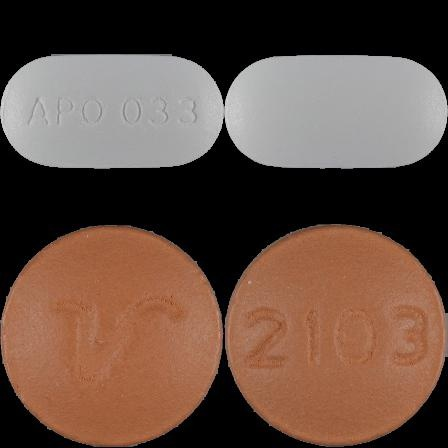67544-252: (0, 0, 224, 224)
